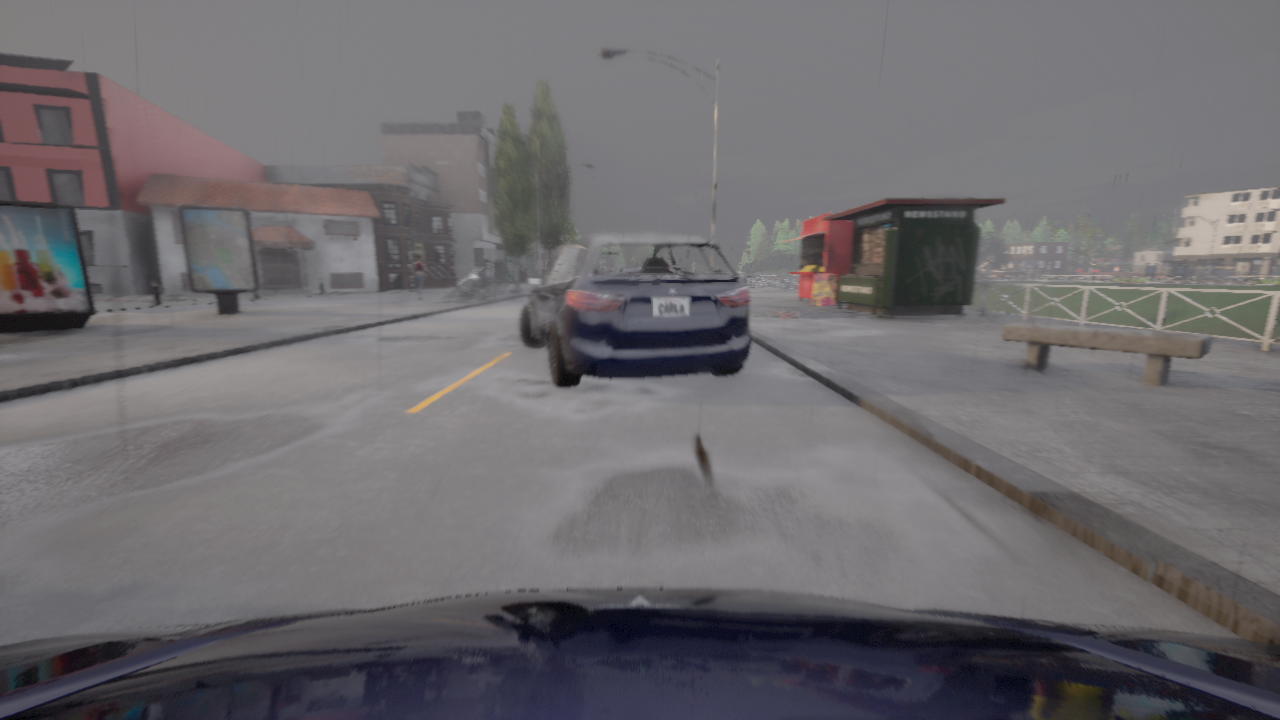cyclist: (0, 588, 1279, 719), (520, 233, 750, 386)
pedestrian: (412, 255, 427, 300)
